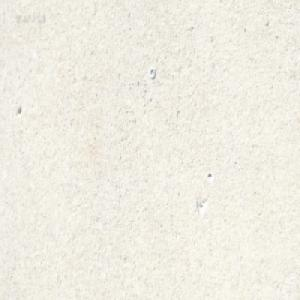Washer: (149, 67, 155, 79)
